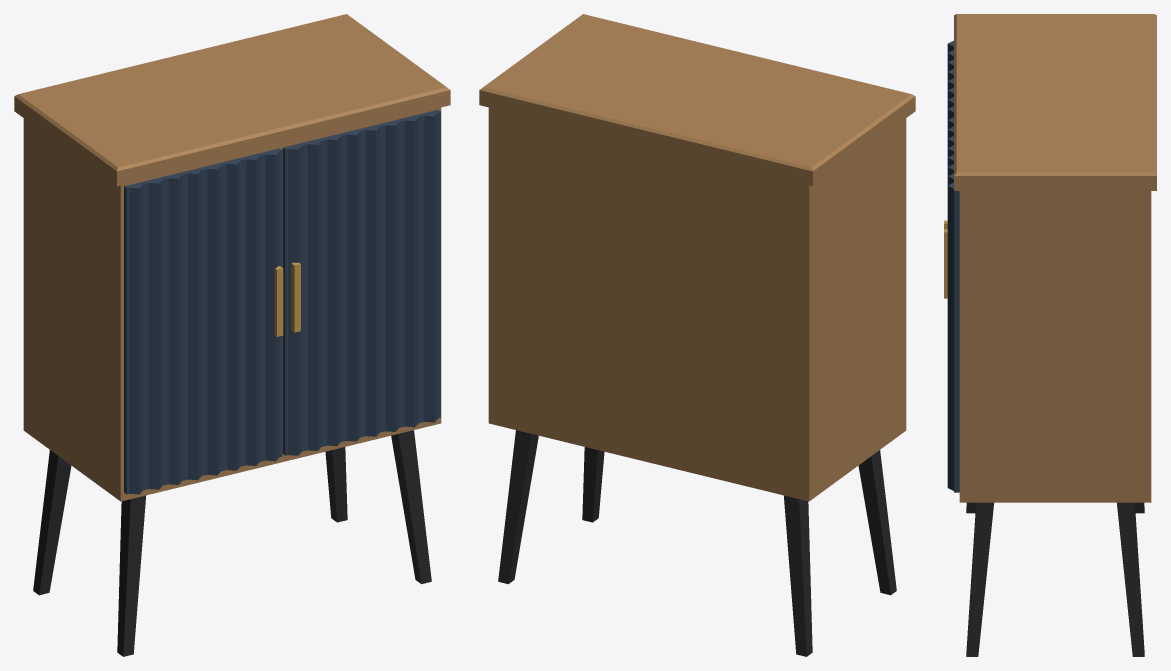
The model's file is FN_Cabinet_Drinks.glb.
3 views of the same model, side by side, from view 1: azimuth 30°, elevation 25°; view 2: azimuth 150°, elevation 25°; view 3: azimuth 270°, elevation 25° (orthographic).
Visible parts, largest first — view 1: FN_Cabinet_Drinks; view 2: FN_Cabinet_Drinks; view 3: FN_Cabinet_Drinks.
Boxes of the visible parts, x1,y1,x2,y2 form: FN_Cabinet_Drinks: [14, 14, 450, 656]; FN_Cabinet_Drinks: [479, 14, 915, 656]; FN_Cabinet_Drinks: [944, 14, 1156, 656].
Bounding box in the file's own units: 0.832 × 1.18 × 0.466.
Materials: 1 (1 with a texture image).
